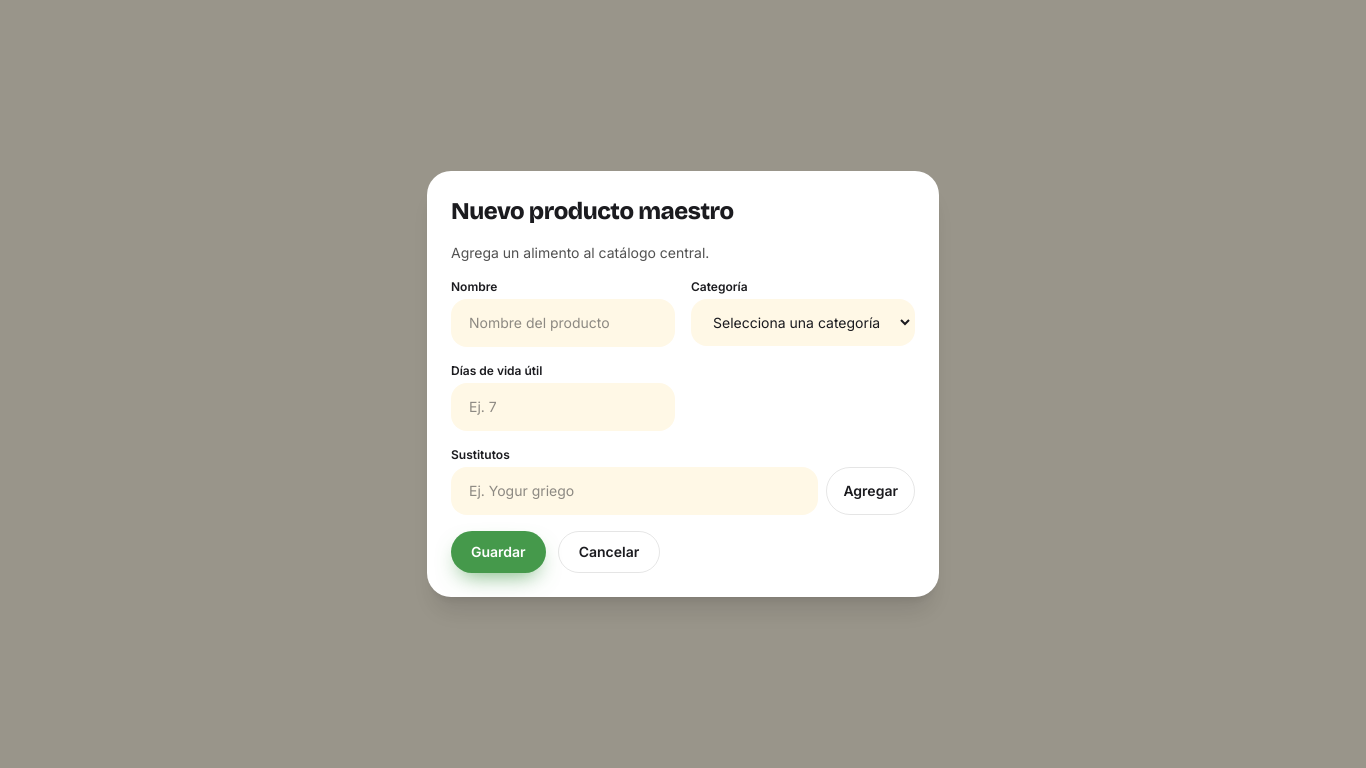
Scenario: shows the server message and stays open when the request fails
In the field labelled "Nombre": (563, 323) x1=451 y1=299 x2=675 y2=347, type "Kiwi"
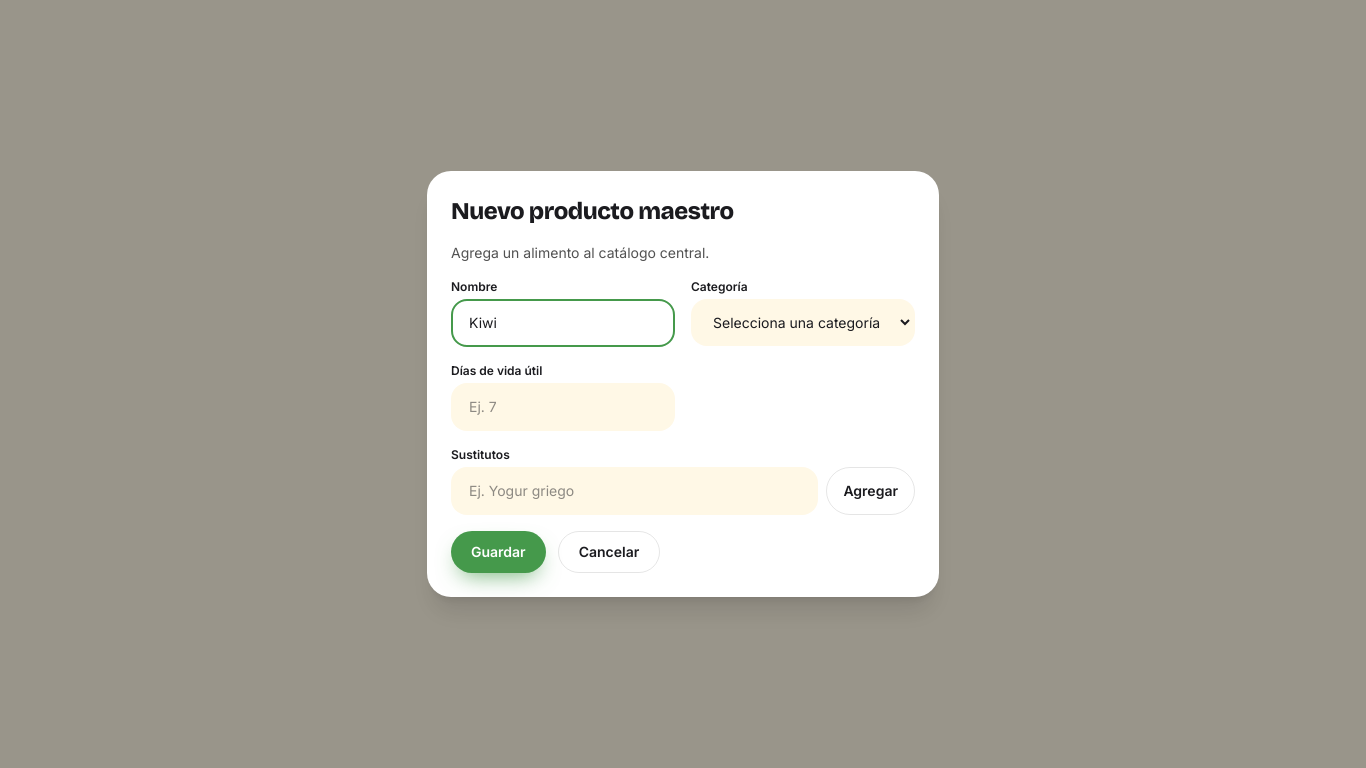
Select "Frutas" in the dropdown labelled "Categoría": (803, 322) x1=691 y1=299 x2=915 y2=346
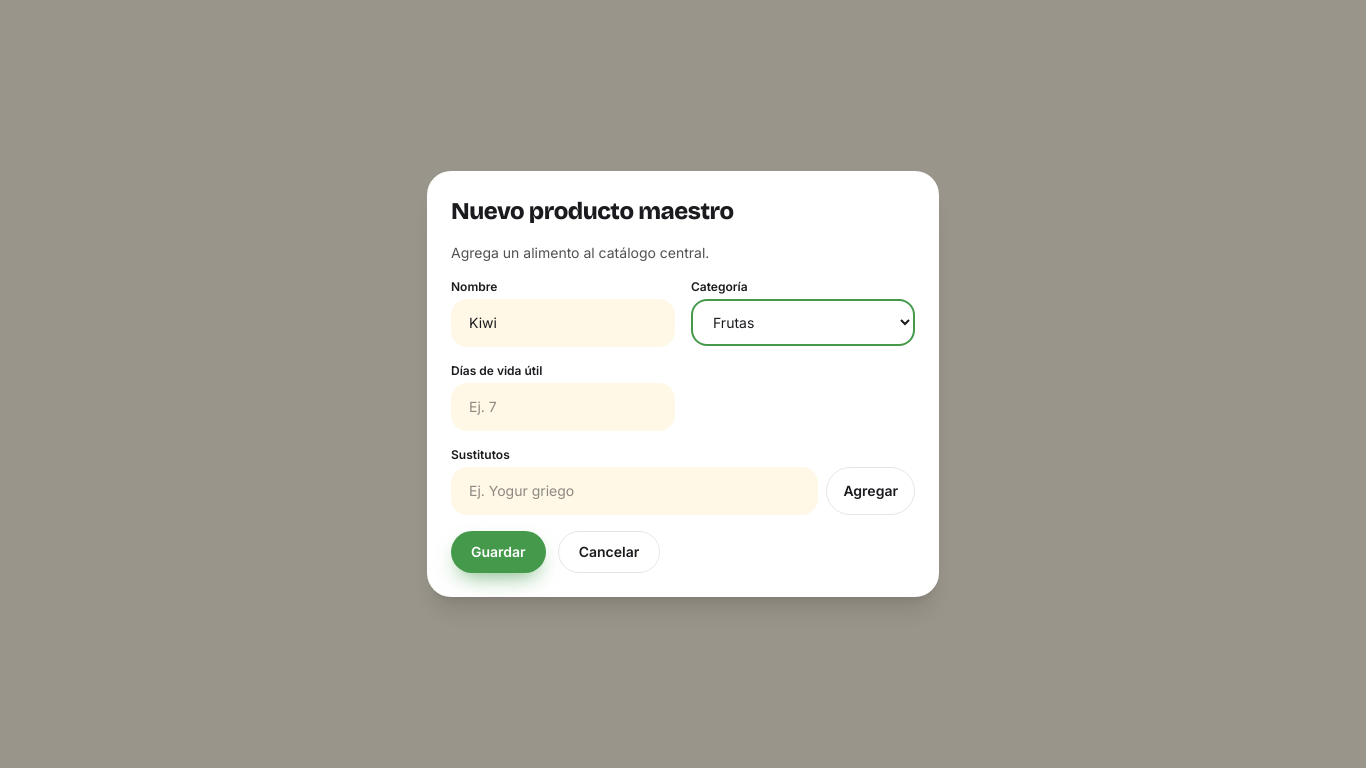
In the field labelled "Días de vida útil": (563, 407) x1=451 y1=383 x2=675 y2=431, type "10"
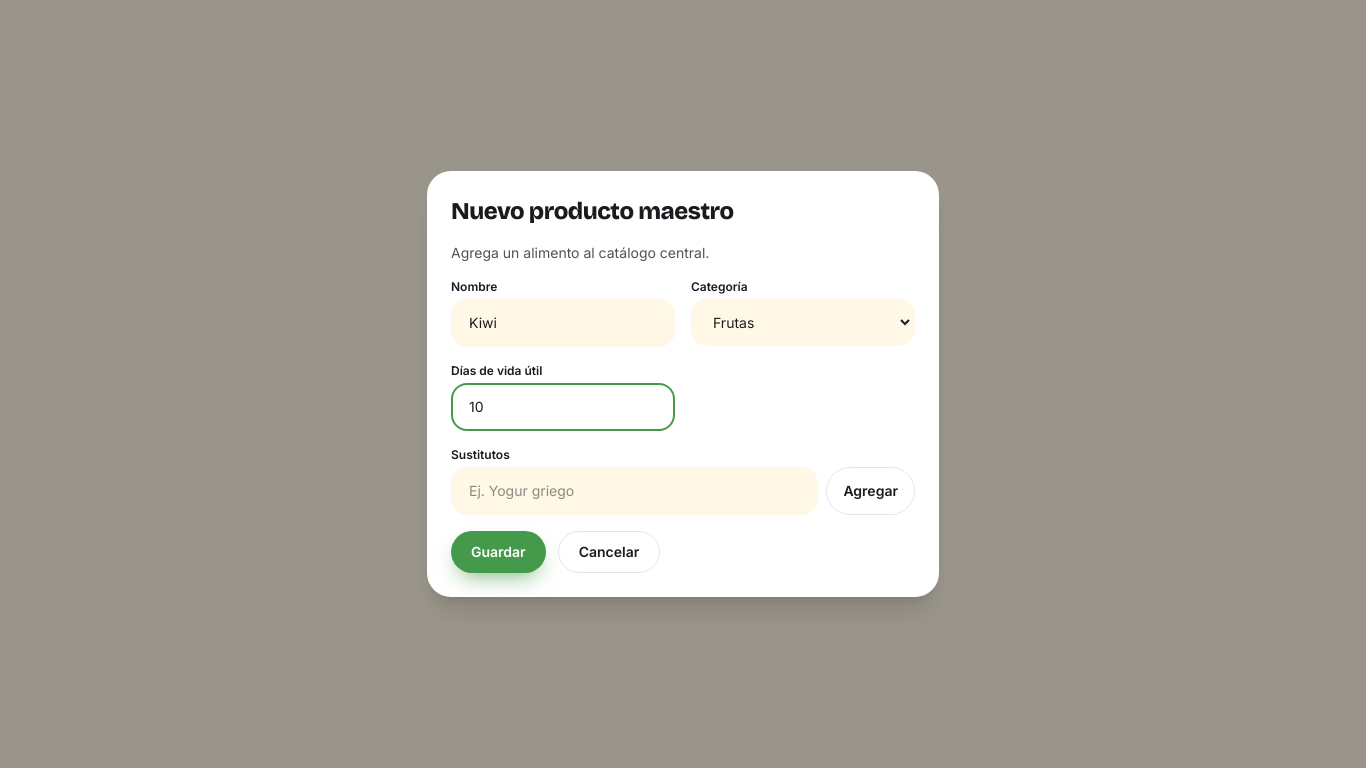
In the field labelled "Sustitutos": (635, 491) x1=451 y1=467 x2=818 y2=515, type "Fresa"
Then press Enter
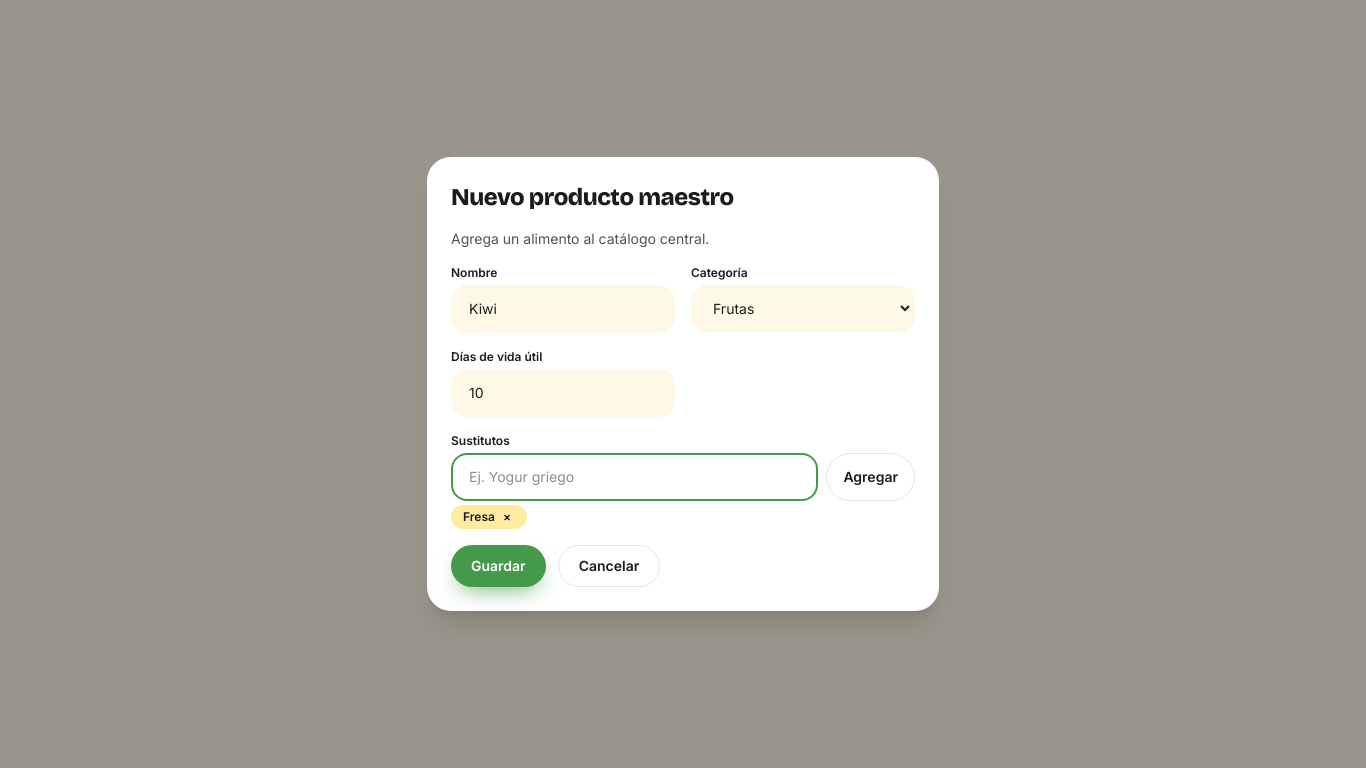
Click the button "Guardar": (498, 566) x1=451 y1=545 x2=546 y2=587
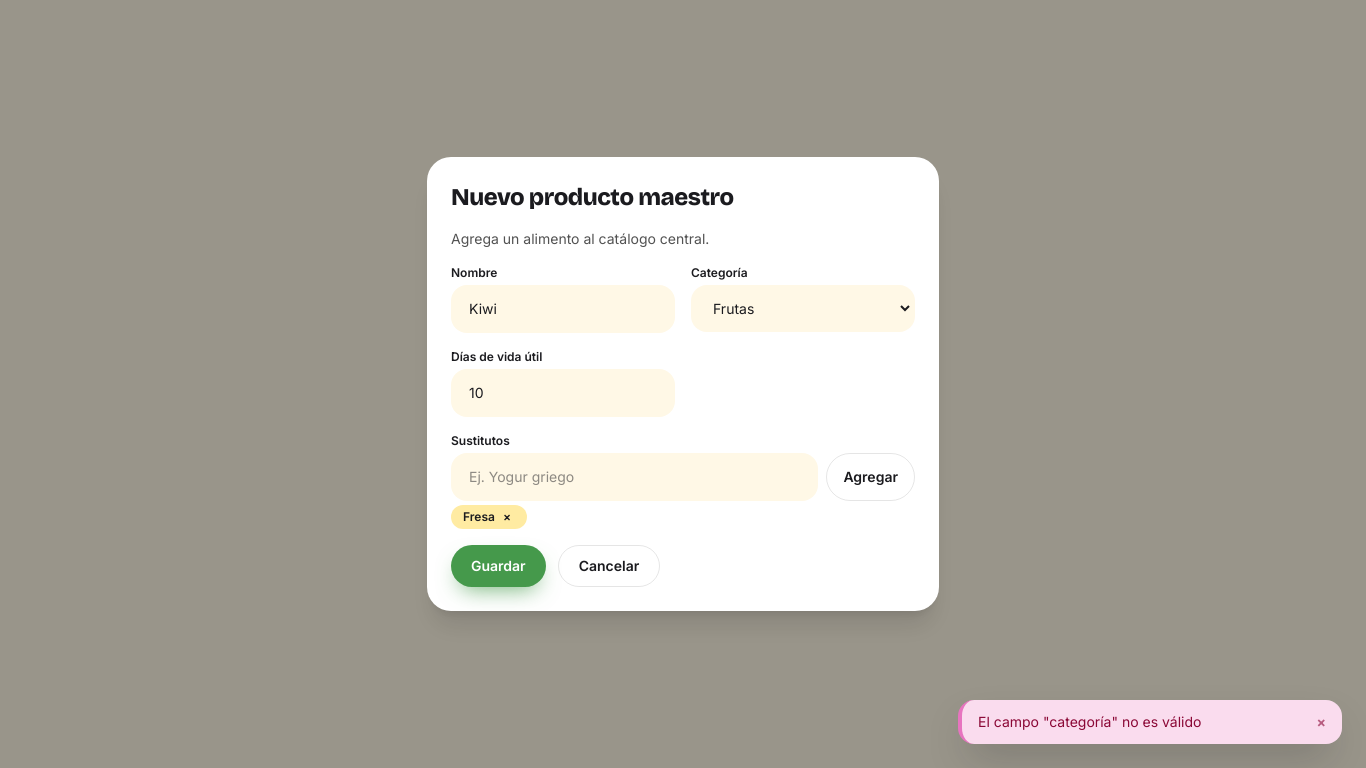
Now the text "El campo \"categoría\" no es válido" is shown, box x1=978 y1=713 x2=1201 y2=730
